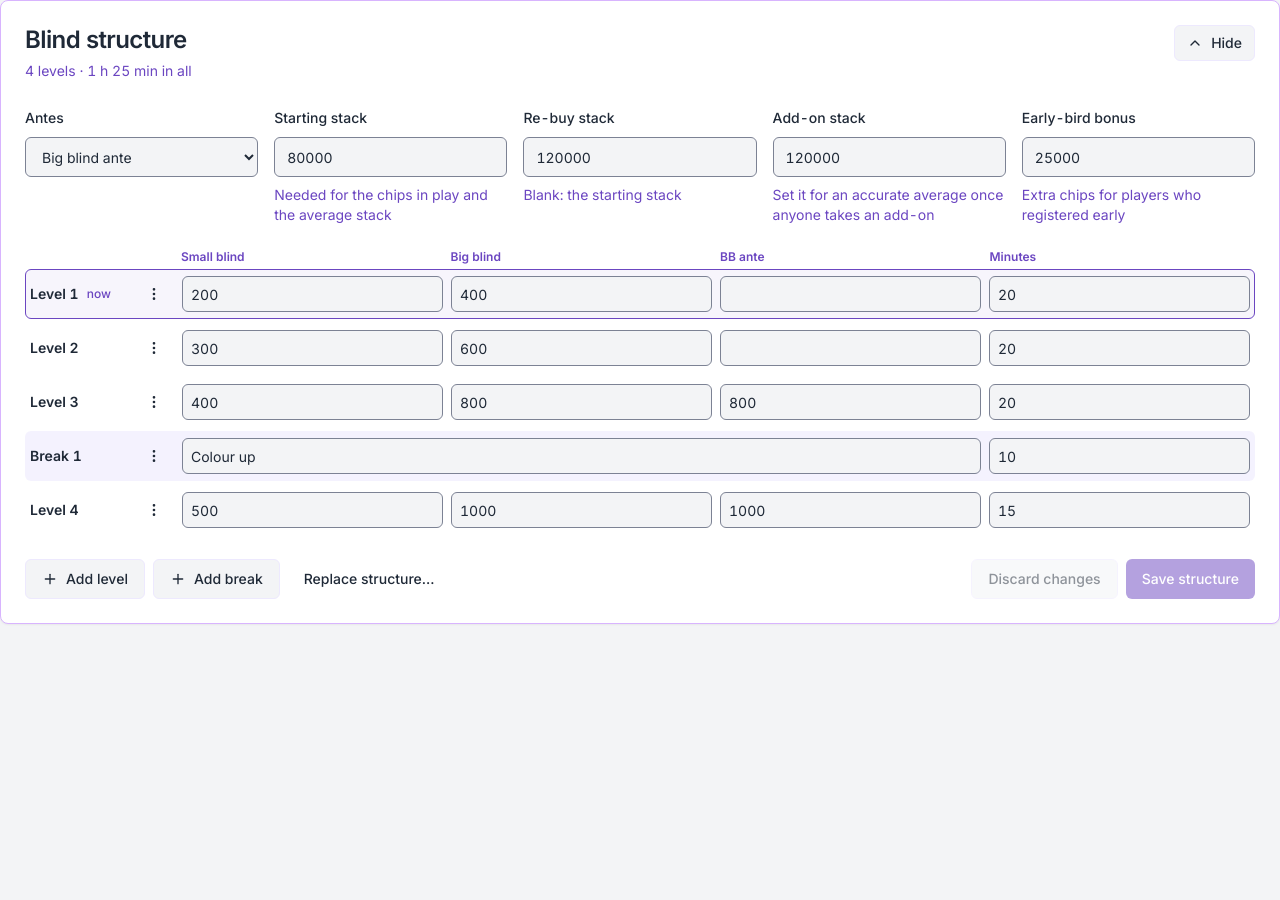
StructureEditor › saves an edited level with the structure the edit started from
This screenshot has width=1280, height=900.
Expected: the button "Save structure" is disabled, [1126,559,1255,599]
Replace the text in the field named "Level 2 big blind" with "700" at (582, 348), box [451,330,712,366]
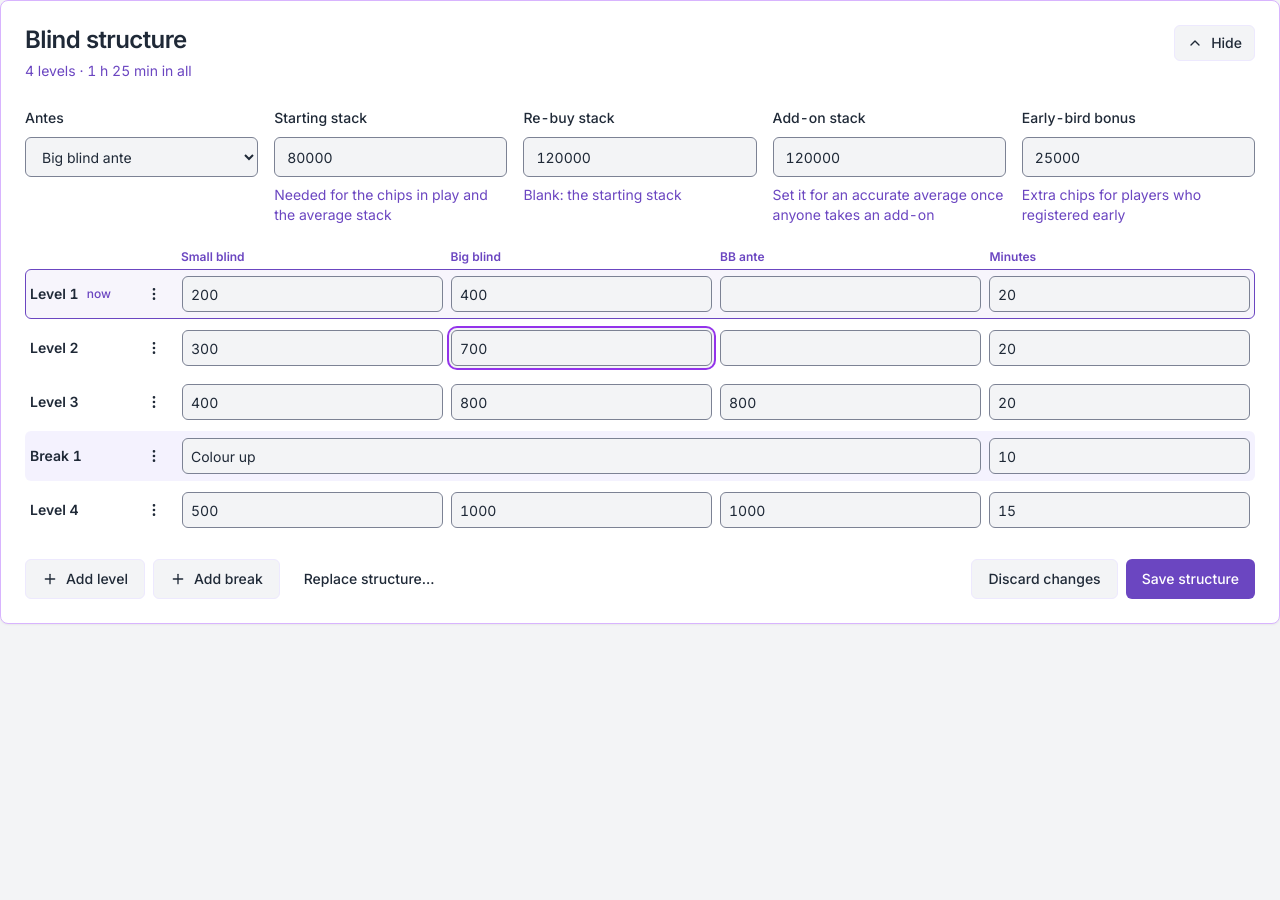
Click the button "Save structure" at (1190, 579), box [1126,559,1255,599]
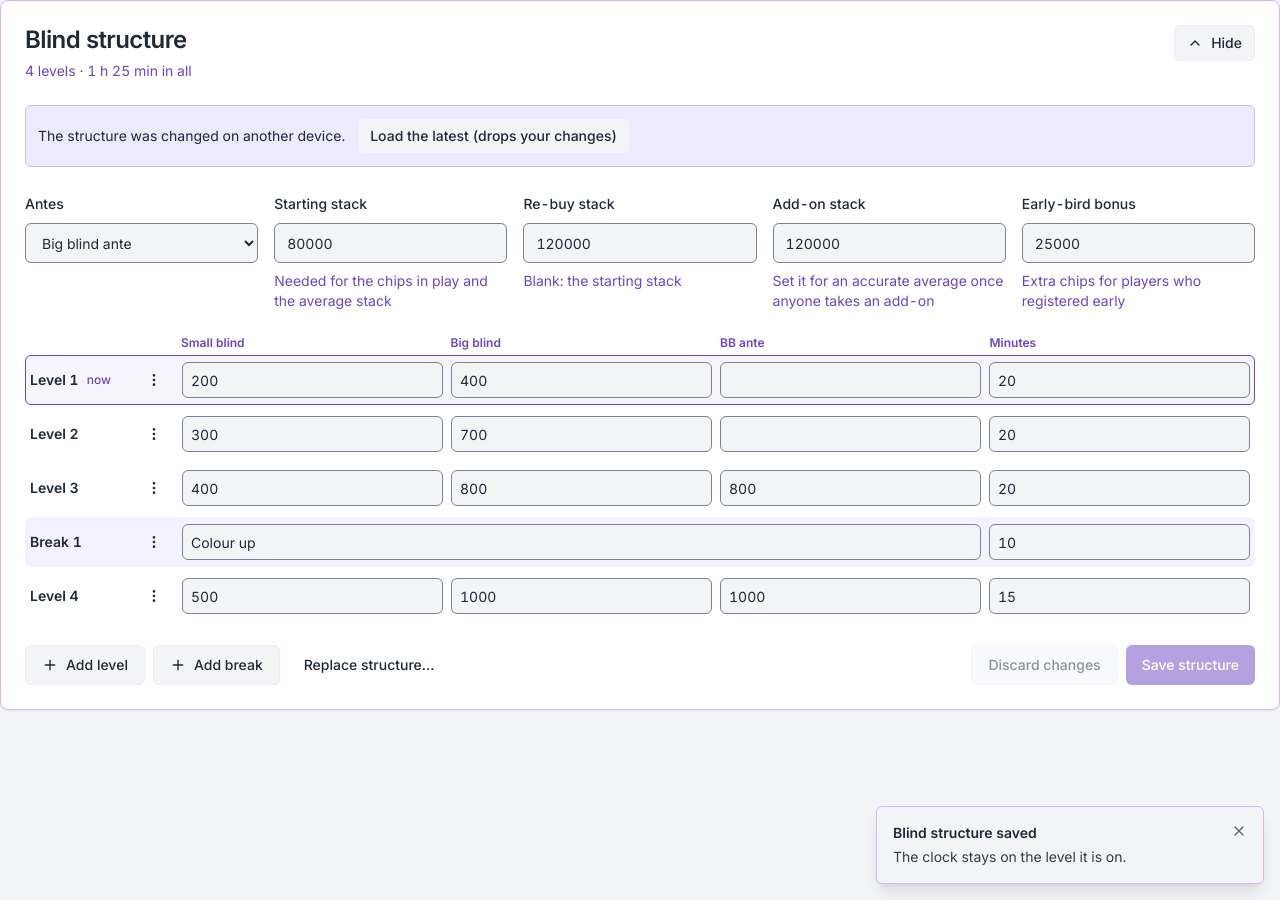
Expected: the text "Blind structure saved" is shown, [893,824,1037,841]
Expected: the button "Save structure" is disabled, [1126,645,1255,685]
